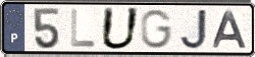5: (32, 6, 61, 51)
A: (211, 10, 249, 50)
G: (140, 8, 175, 50)
J: (179, 7, 209, 51)
L: (69, 8, 97, 49)
U: (99, 6, 142, 52)
